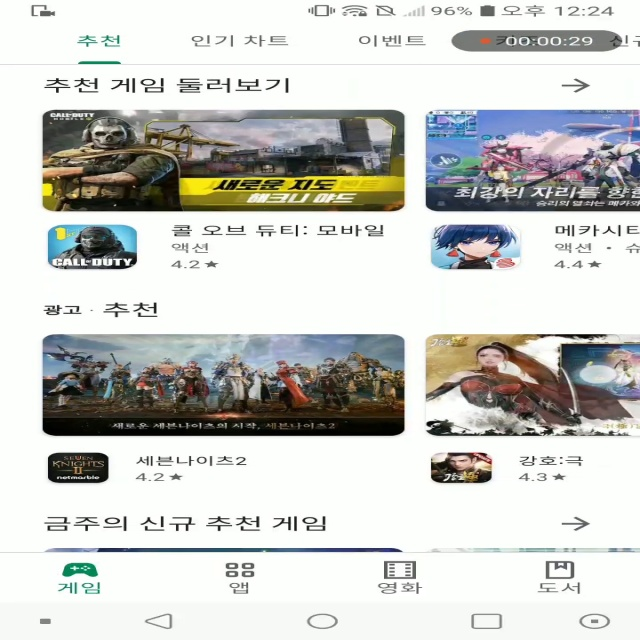Cursor: (576, 364, 621, 386)
